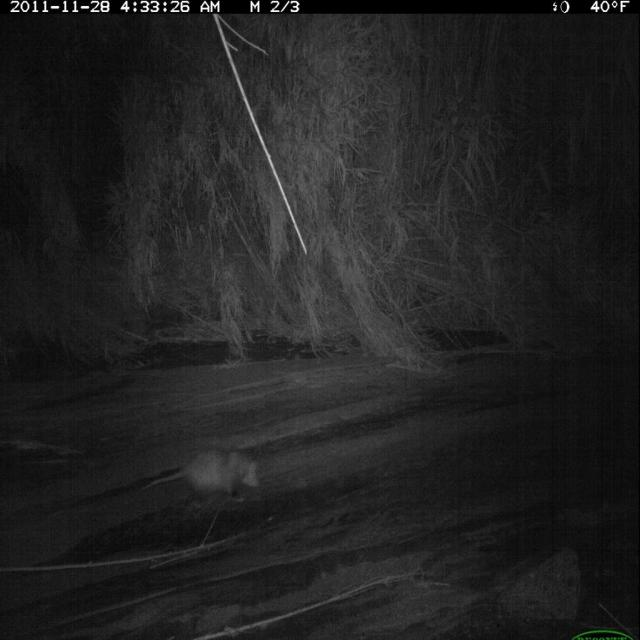opossum: (130, 445, 267, 511)
